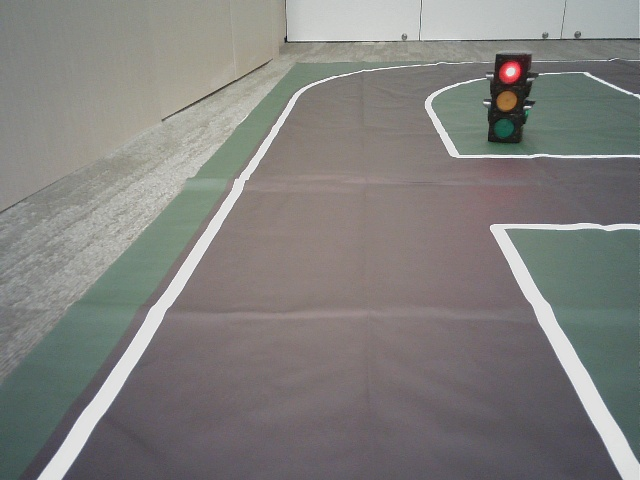red: (493, 54, 519, 138)
